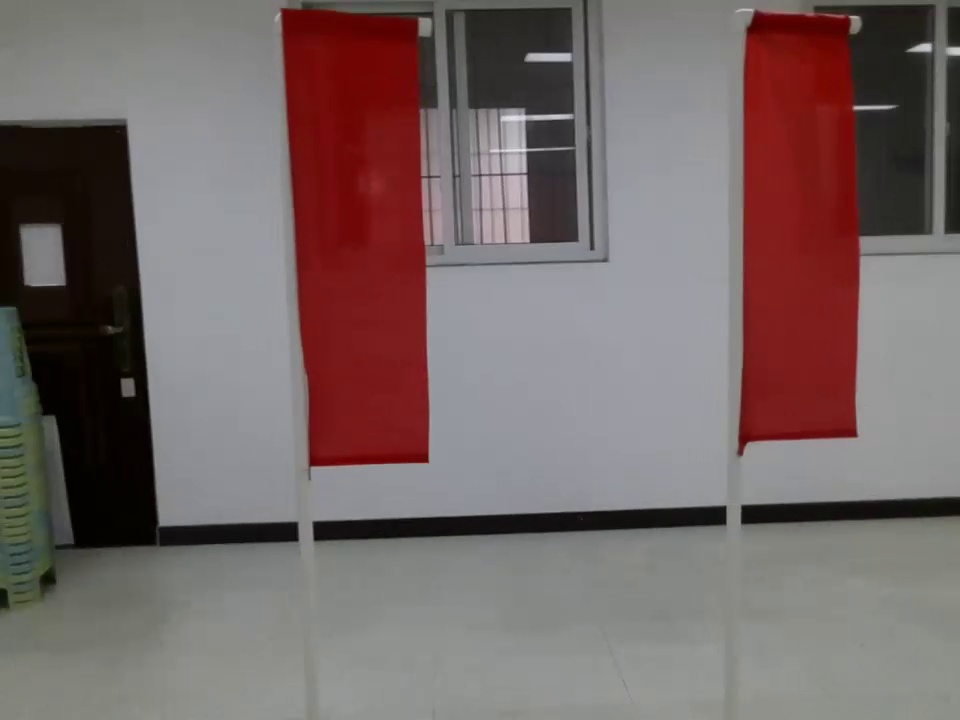qi: (256, 11, 434, 490), (710, 6, 883, 494)
